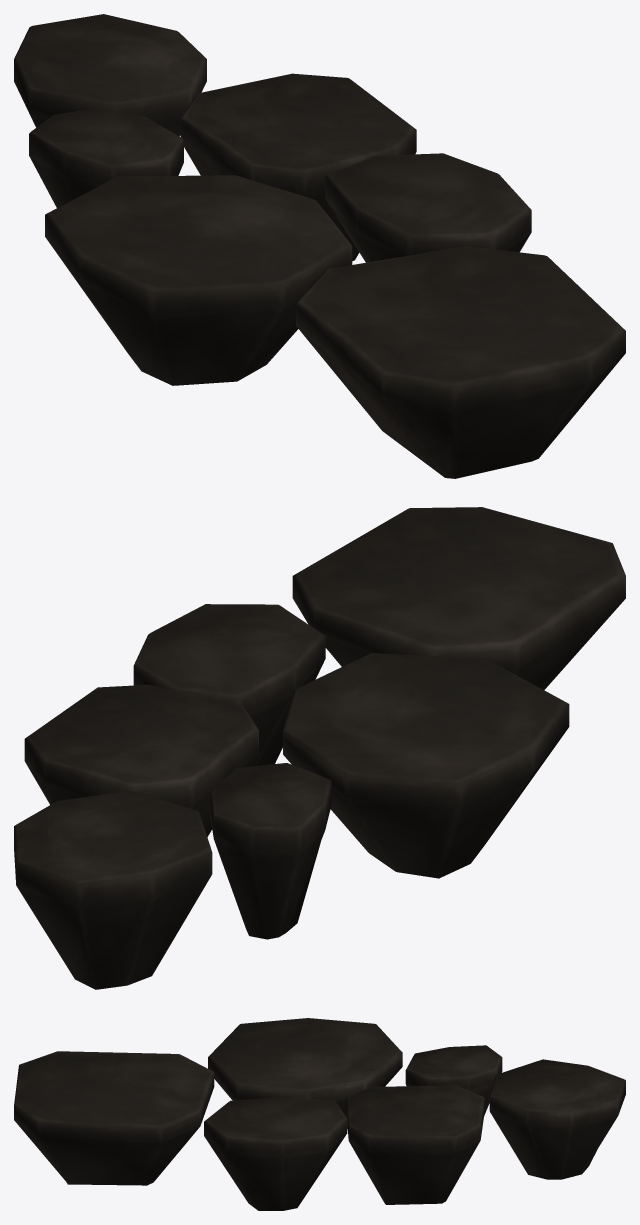
The model's file is StepStone4.FBX.
3 renders of one model, top to bottom at view 1: azimuth 30°, elevation 25°; view 2: azimuth 150°, elevation 25°; view 3: azimuth 270°, elevation 25°, orthographic. The views are drawn at different scales.
Visible parts, largest first — view 1: StepStone4; view 2: StepStone4; view 3: StepStone4.
Boxes of the visible parts, bbox=[...] form: StepStone4: bbox=[14, 14, 625, 478]; StepStone4: bbox=[14, 507, 625, 989]; StepStone4: bbox=[14, 1018, 625, 1210].
Size of the model in its own units: 5.79 by 1.81 by 12.02.
